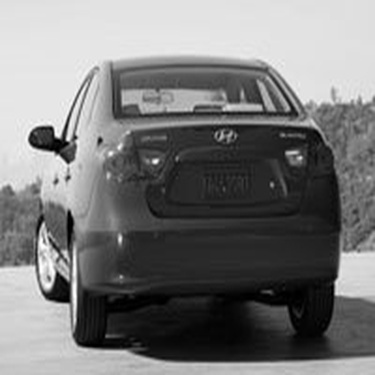car: (1, 40, 352, 343)
